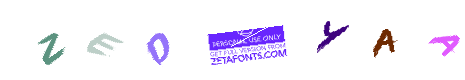7: (207, 0, 287, 80)
A: (290, 0, 370, 80), (344, 0, 424, 80)
D: (191, 0, 271, 80)
E: (151, 0, 231, 80)
Y: (232, 0, 312, 80)
Z: (59, 0, 139, 80)
